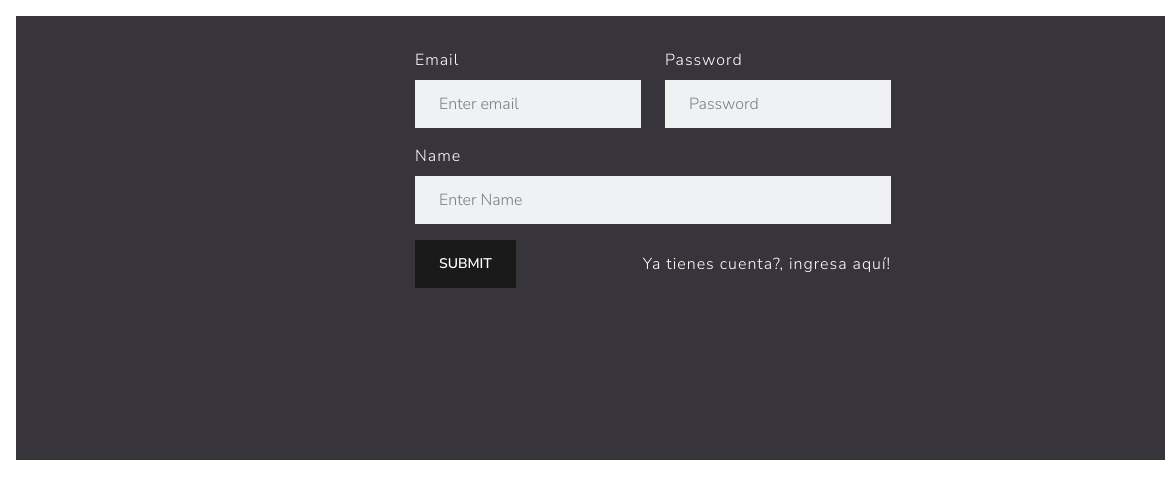
Test case: Register Component › submits the register form and handles success
Type "test@example.com" into the field labelled "Email".
click(528, 104); type("test@example.com")  # box [415,80,641,128]
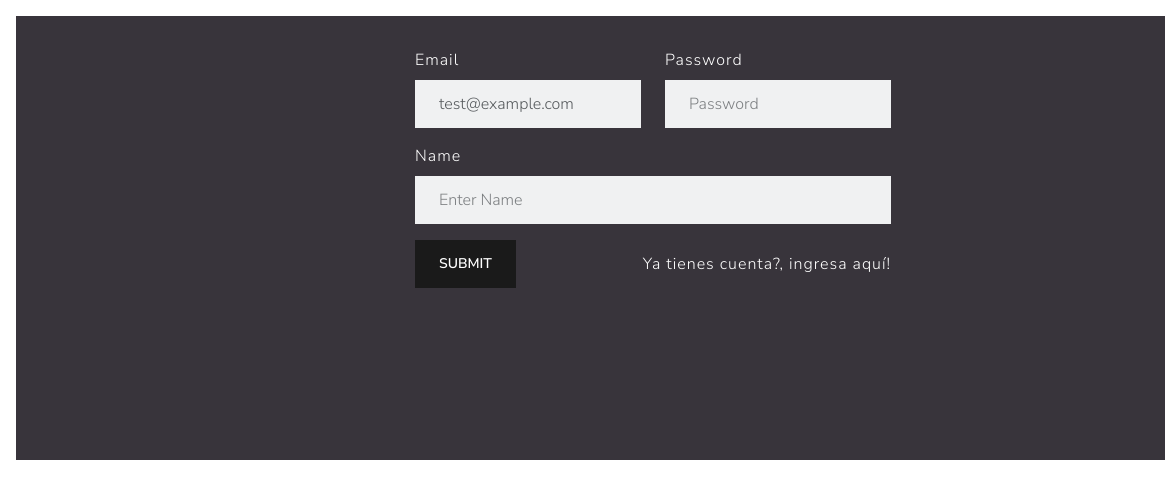
Type "password123" into the password field labelled "Password".
click(778, 104); type("password123")  # box [665,80,891,128]
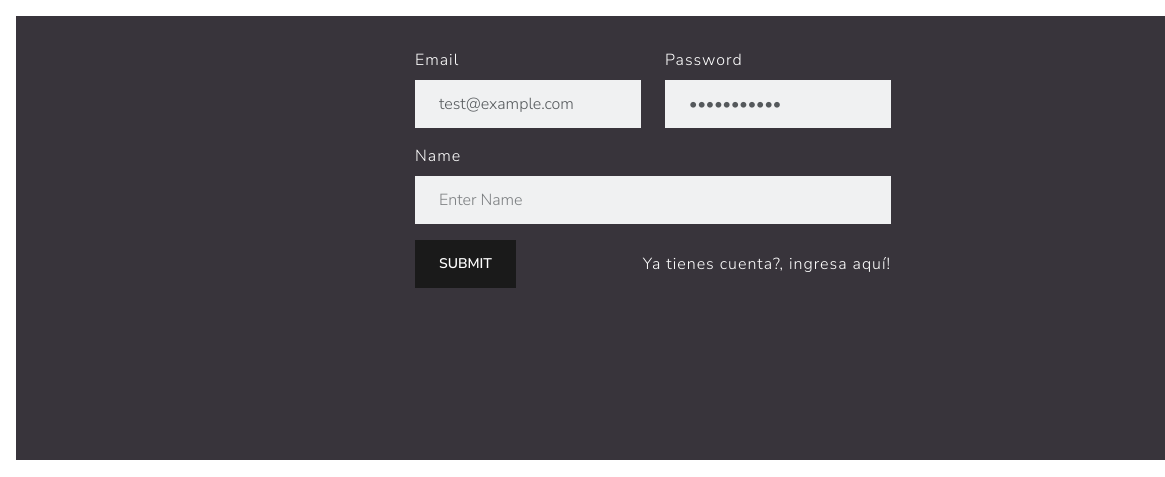
Type "John Doe" into the field labelled "Name".
click(653, 200); type("John Doe")  # box [415,176,891,224]
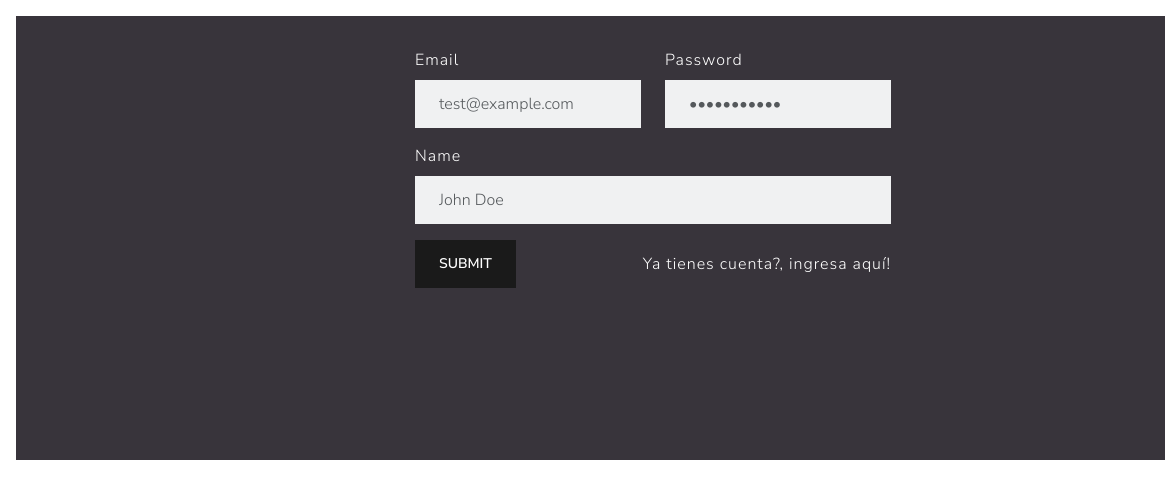
Click the button "Submit".
click(465, 264)  # box [415,240,516,288]
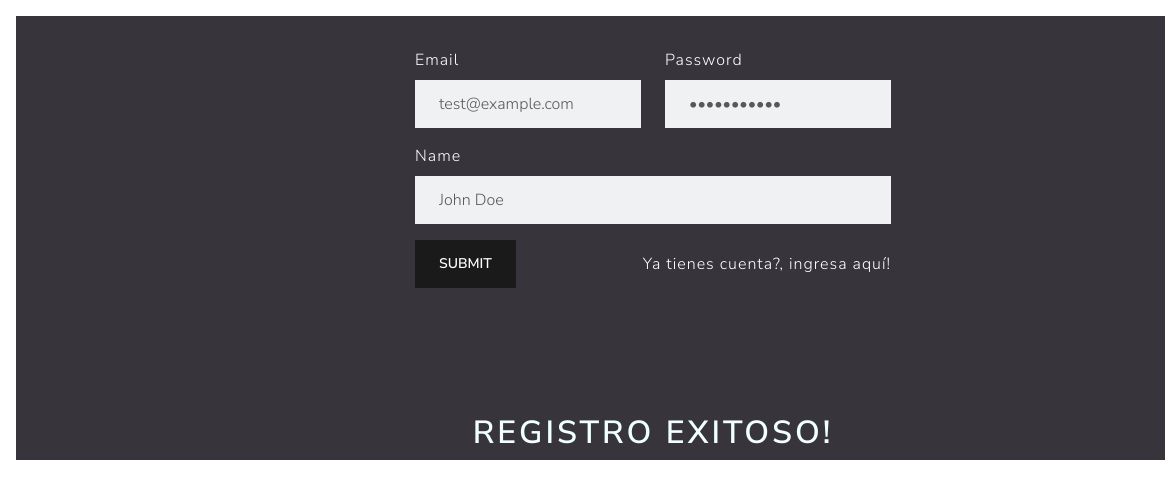
Check: the heading "Registro Exitoso!" is shown, box [473,414,833,452]
